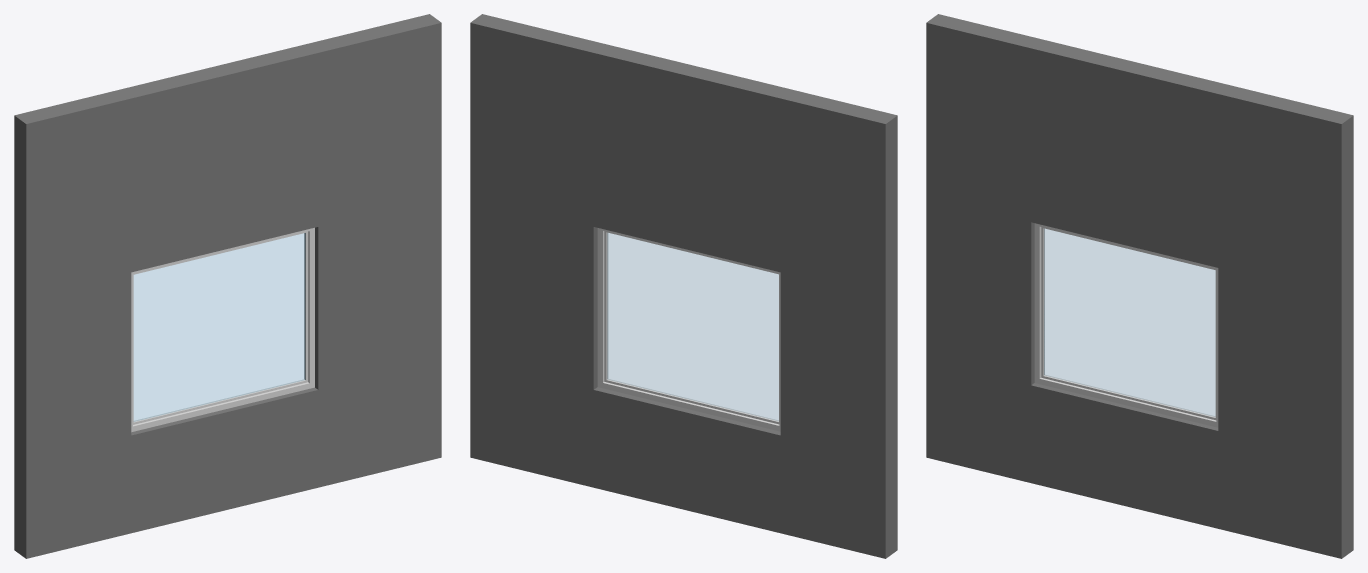
3 renders of one model, left to right at view 1: azimuth 30°, elevation 25°; view 2: azimuth 150°, elevation 25°; view 3: azimuth 330°, elevation 25°, orthographic.
Parts seen in each view (by area): view 1: 墙 <基本墙 : 墙 1 : 墙 1>, 窗 (×3); view 2: 墙 <基本墙 : 墙 1 : 墙 1>, 窗 (×3); view 3: 墙 <基本墙 : 墙 1 : 墙 1>, 窗 (×3).
Part boxes in pixels (x1,y1,x2,y2): 墙 <基本墙 : 墙 1 : 墙 1>: (14,14,441,558); 窗 (×3): (131,227,314,432); 墙 <基本墙 : 墙 1 : 墙 1>: (470,14,897,558); 窗 (×3): (597,228,780,431); 墙 <基本墙 : 墙 1 : 墙 1>: (926,14,1353,558); 窗 (×3): (1034,223,1218,427).
Bounding box in the file's own units: 4000 × 4000 × 200.
